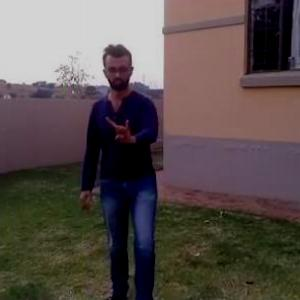takeoff-hand: (103, 105, 139, 148)
